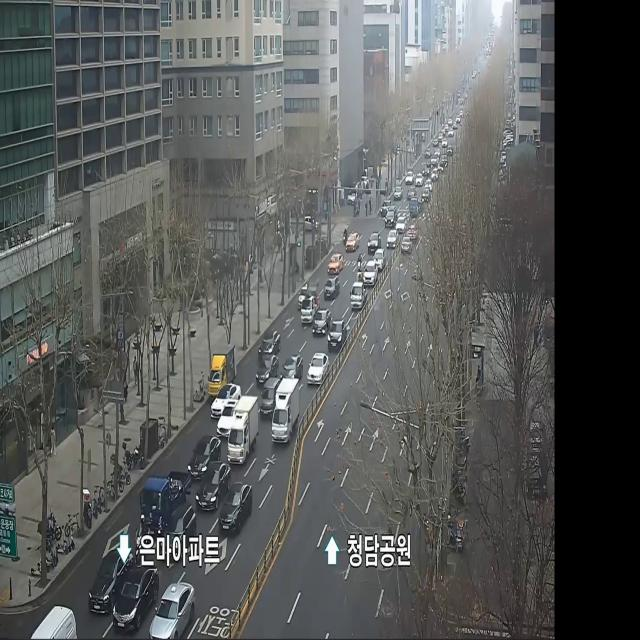bus: (343, 228, 347, 245)
motorcycle: (134, 470, 193, 538), (158, 500, 197, 563), (193, 460, 234, 518), (186, 432, 226, 488), (156, 583, 193, 640), (121, 568, 153, 629), (230, 399, 258, 465), (29, 604, 78, 640), (224, 484, 252, 539), (275, 380, 299, 440), (91, 551, 119, 600), (259, 377, 281, 420), (213, 385, 240, 417), (307, 352, 329, 382), (282, 354, 303, 379), (350, 282, 368, 310), (329, 321, 347, 348), (258, 356, 278, 380), (259, 331, 280, 353), (314, 309, 331, 332), (324, 276, 339, 301), (363, 261, 378, 285), (326, 254, 344, 272), (367, 232, 381, 250), (374, 248, 386, 269), (385, 207, 396, 228), (348, 234, 359, 254), (387, 230, 398, 250), (402, 237, 412, 254), (396, 218, 407, 231), (381, 200, 390, 215), (394, 187, 402, 201), (422, 189, 430, 203), (409, 225, 417, 238), (406, 172, 414, 184), (416, 174, 424, 186), (408, 188, 416, 198), (426, 179, 432, 190)
truck: (208, 343, 234, 389), (303, 290, 319, 321), (410, 198, 423, 216)
